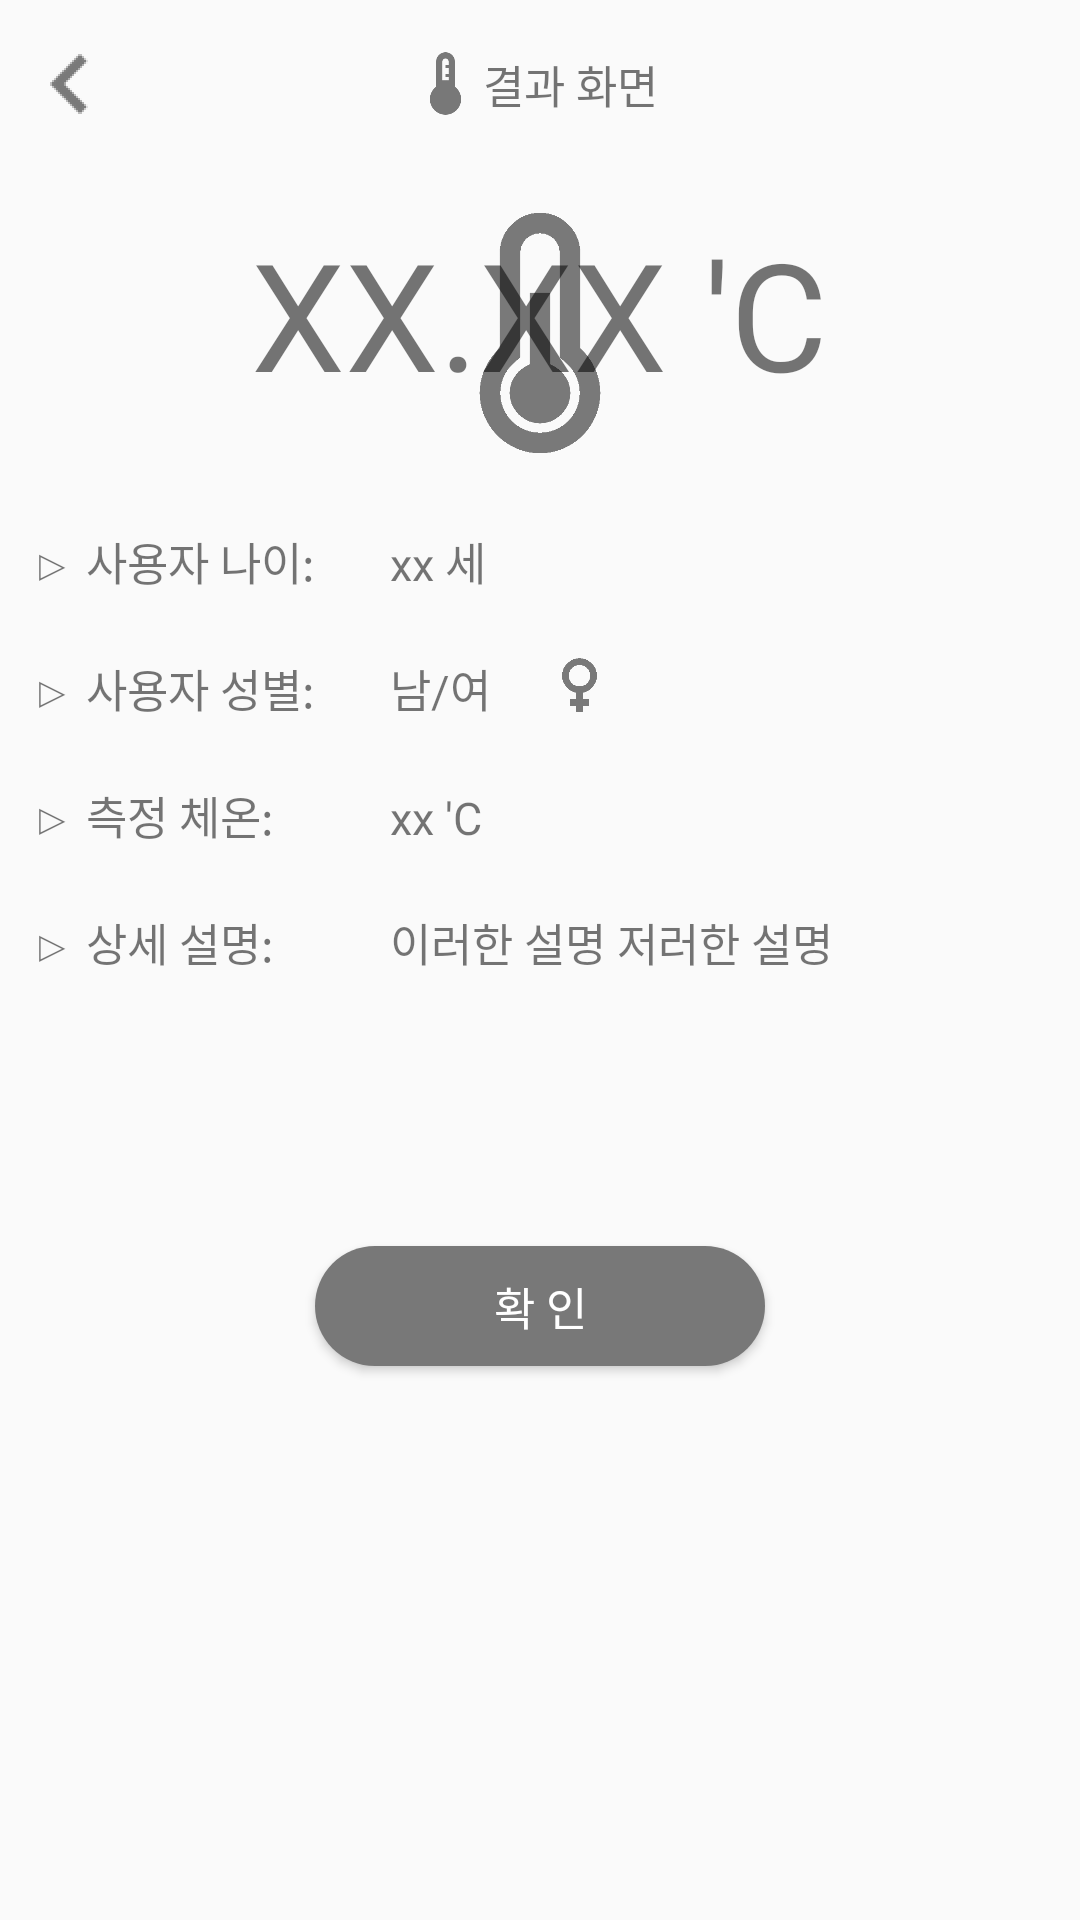

Locate icon controls on the screen. Image size 1080w x 1920h, boxes as Rect(x1, y1, x2, y2).
female: Rect(562, 658, 597, 712)
left: Rect(50, 54, 88, 114)
therma: Rect(430, 52, 461, 115)
